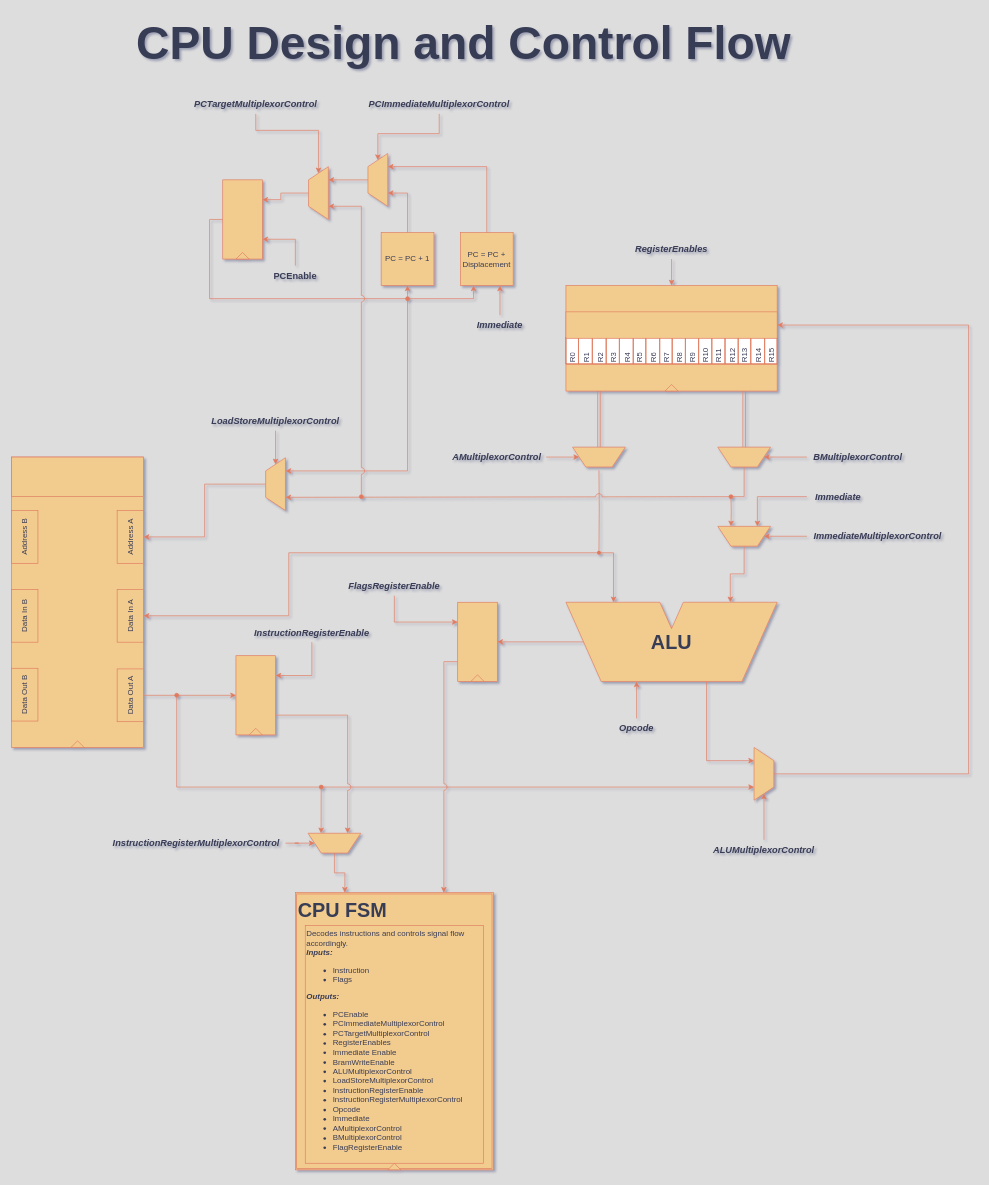
This 989x1185 diagram has some shape labels left out. The centre of each missing label's shape, as x and y in pixels:
"BRAM" goes at (77,476).
"Flags Register" goes at (477,641).
"Instruction Register" goes at (255,695).
"PC Register" goes at (242,219).
"Register File" goes at (671,324).
